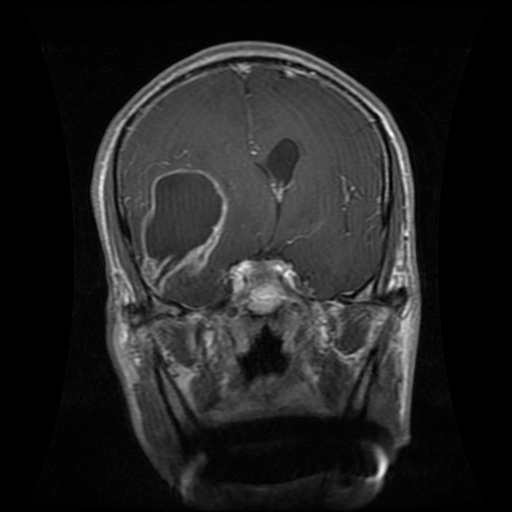glioma: (137, 166, 230, 295)
